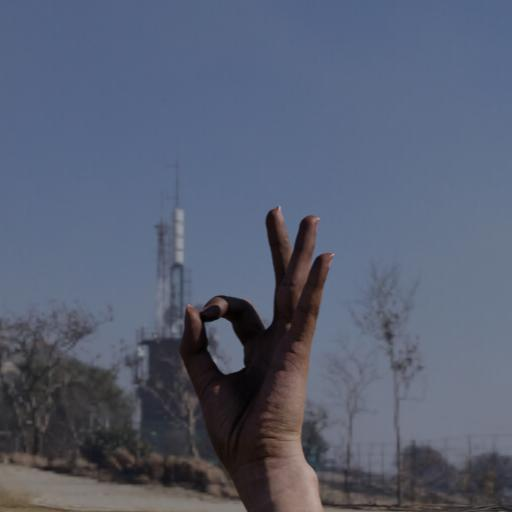F: (167, 194, 359, 512)
